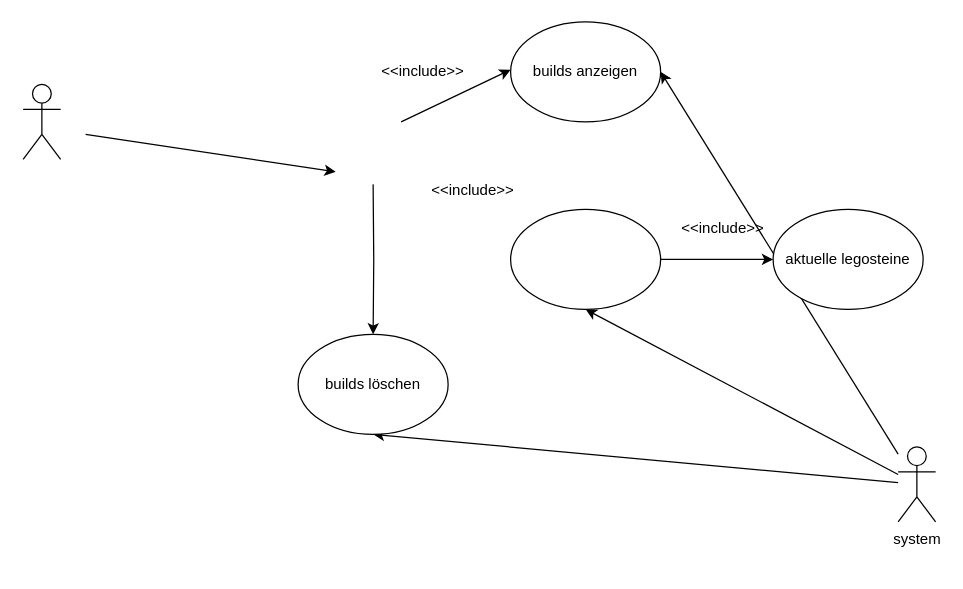
Some shapes in this 963 by 589 pixel diagram are drawn without their labels. Here are the shapes that lost their labels. From the top down, the centre of each, then its label:
At point (41, 121): "kunde".
At point (585, 258): "builds berechnen".
